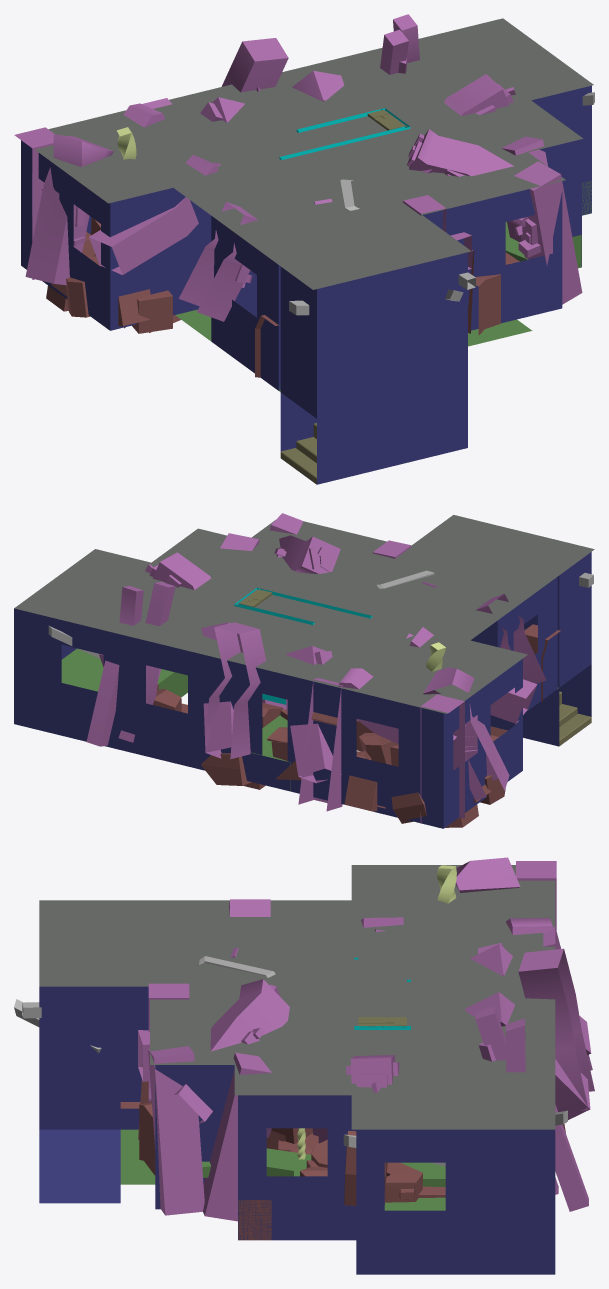
Rendered from Nivel_3.fbx.
The picture shows the model from 3 angles, top to bottom: view 1: azimuth 30°, elevation 25°; view 2: azimuth 150°, elevation 25°; view 3: azimuth 270°, elevation 25°; orthographic projection. The views are drawn at different scales.
Parts seen in each view (by area): view 1: PAREDES, Techo, Protuberancias_Paredes, Protuberancias_Suelo, Piso, Escalera_1, Ramas, Escalera_2; view 2: Techo, PAREDES, Protuberancias_Paredes, Protuberancias_Suelo, Piso, Escalera_1, Escalera_2, Ramas; view 3: Techo, PAREDES, Protuberancias_Paredes, Protuberancias_Suelo, Piso, Ramas, Estacas, Escalera_1.
Boxes of the visible parts, x1,y1,x2,y2 form: PAREDES: (21,85,591,484); Techo: (35,18,593,289); Protuberancias_Paredes: (14,14,582,321); Protuberancias_Suelo: (46,217,519,377); Piso: (175,181,591,391); Escalera_1: (279,108,410,160); Ramas: (289,92,594,315); Escalera_2: (280,423,316,484); Techo: (14,515,594,713); PAREDES: (14,552,591,828); Protuberancias_Paredes: (86,513,546,823); Protuberancias_Suelo: (153,624,560,827); Piso: (61,648,558,790); Escalera_1: (234,587,372,704); Escalera_2: (559,691,591,745); Ramas: (48,570,593,658); Techo: (39,865,555,1129); PAREDES: (39,986,555,1274); Protuberancias_Paredes: (138,857,594,1221); Protuberancias_Suelo: (120,1064,565,1240); Piso: (120,1129,445,1210); Ramas: (14,956,567,1166); Estacas: (297,865,456,1159); Escalera_1: (354,957,410,1029).
Size of the model in its own units: 16.32 by 7.16 by 14.3.
